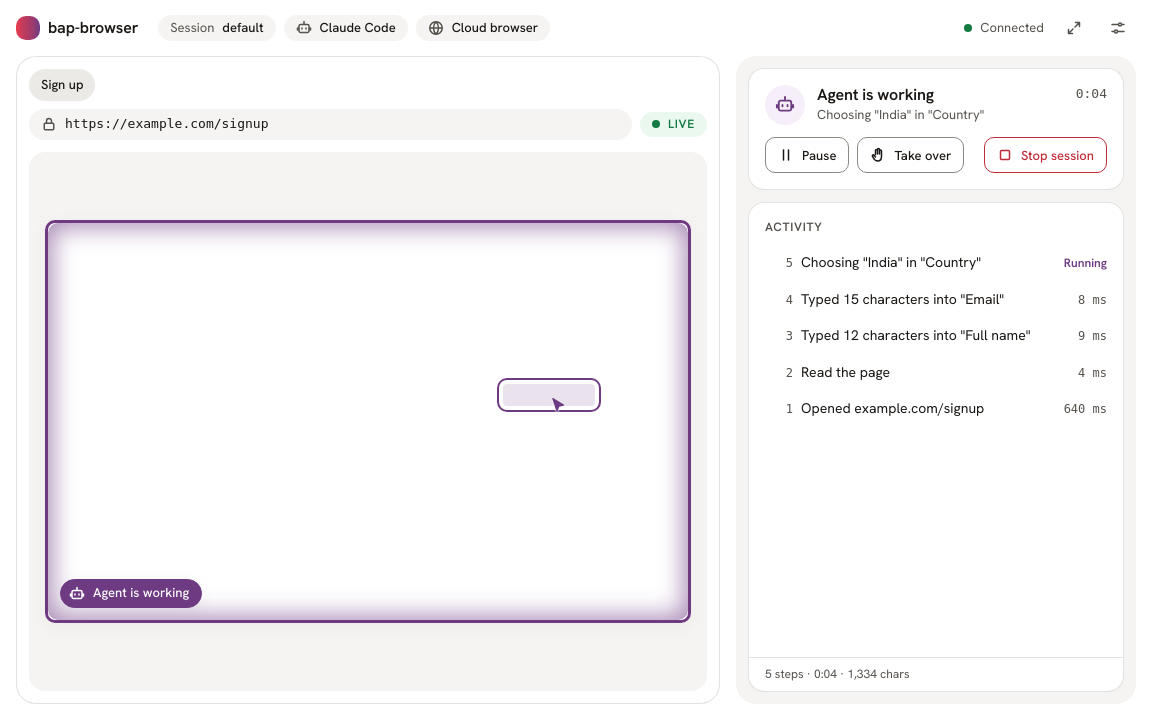
controls › Take over hands the browser to the person, full width, and Hand back returns it
What coordinates should you click on to do the following:
click the button "Take over"
I would click on:
 (911, 155)
Its box is [858, 137, 964, 173].
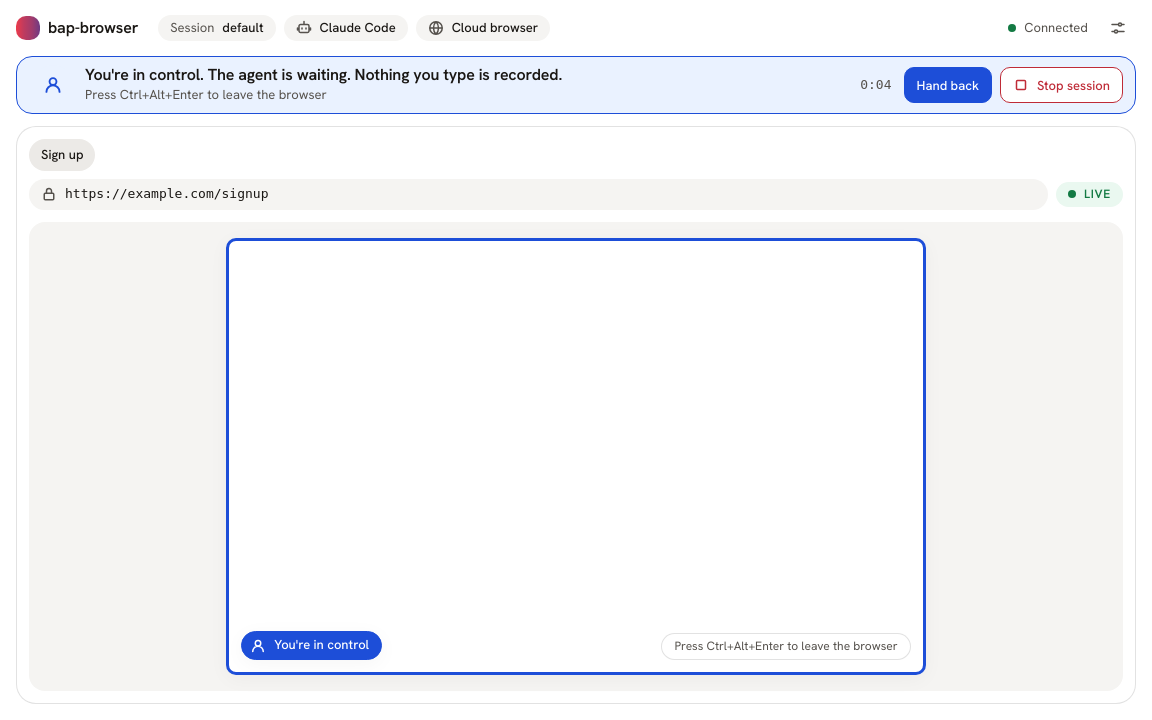
Now the heading "You're in control. The agent is waiting. Nothing you type is recorded." is shown, box [85, 64, 562, 85]
What coordinates should you click on to do the following:
click the button "Hand back"
I would click on:
 (948, 85)
Its box is [904, 67, 992, 103].
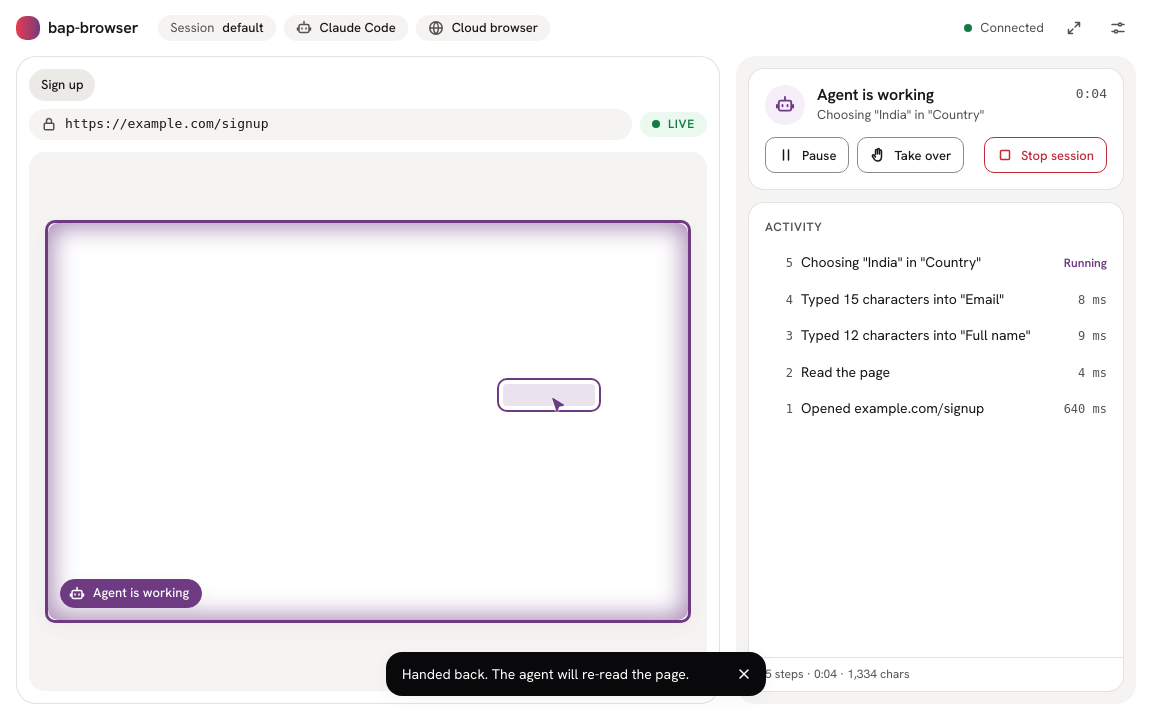
Now the text "Handed back. The agent will re-read the page." is shown, box [402, 664, 714, 684]
